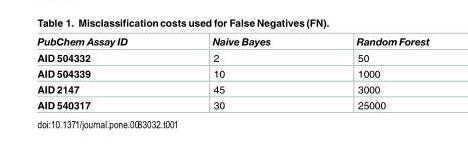table: (36, 37, 428, 110)
table column: (169, 37, 312, 110), (36, 37, 169, 110), (312, 37, 428, 110)
table column header: (36, 37, 428, 48)
table row: (36, 48, 428, 65), (36, 80, 428, 96), (36, 65, 428, 80), (36, 96, 428, 110), (36, 37, 428, 48)
